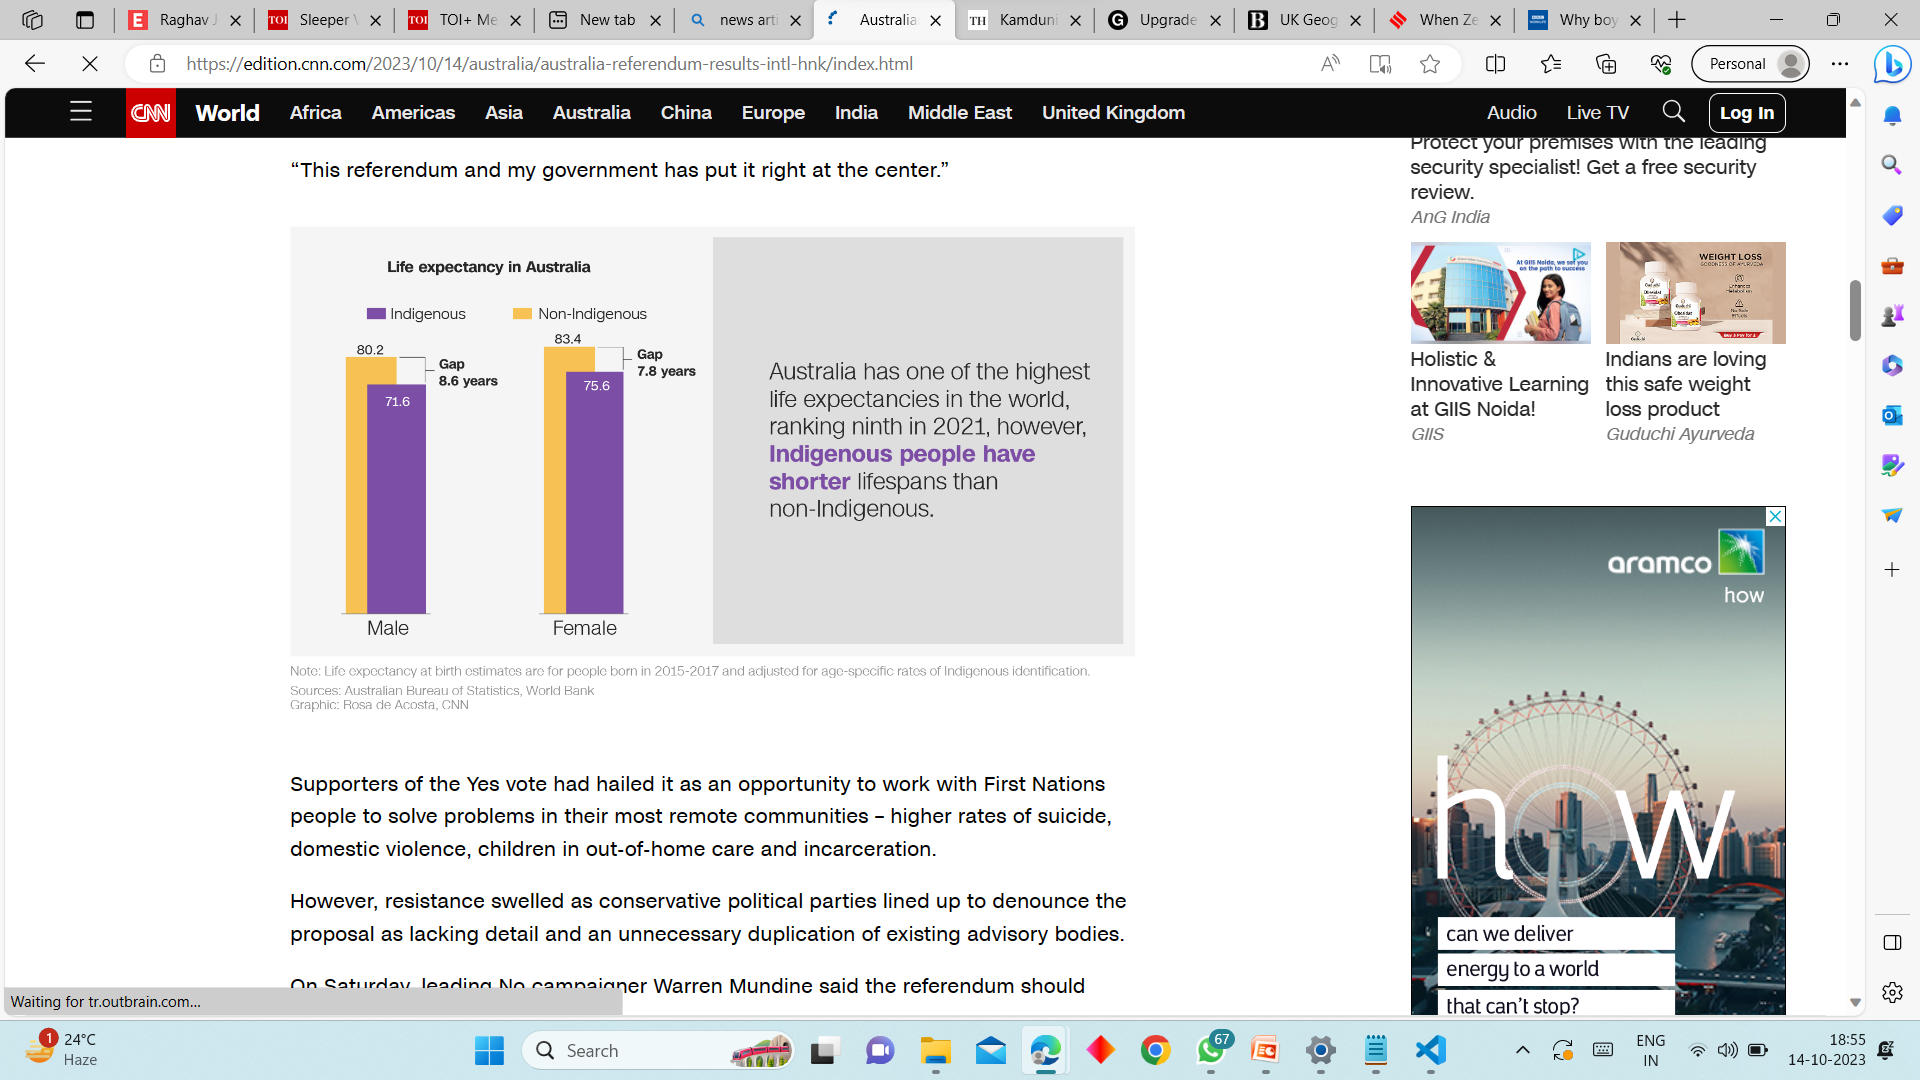Image: (290, 225, 1118, 650), (1414, 512, 1787, 1010), (1393, 239, 1590, 340), (1601, 237, 1787, 338), (62, 83, 100, 132), (1662, 94, 1693, 128)
Paragraph: (282, 762, 1129, 870), (289, 881, 1141, 945), (295, 655, 1138, 720), (1402, 136, 1796, 231), (284, 150, 948, 199), (284, 968, 1118, 1002), (1598, 344, 1809, 440), (1408, 342, 1592, 438), (899, 78, 1026, 145), (1042, 92, 1189, 135), (539, 84, 653, 132), (364, 92, 460, 136), (738, 78, 810, 132), (190, 92, 266, 132), (1713, 94, 1784, 136), (1561, 92, 1627, 135), (276, 94, 344, 128), (1478, 96, 1552, 128), (659, 92, 716, 132), (472, 92, 525, 132), (833, 96, 887, 135), (125, 92, 174, 123)
